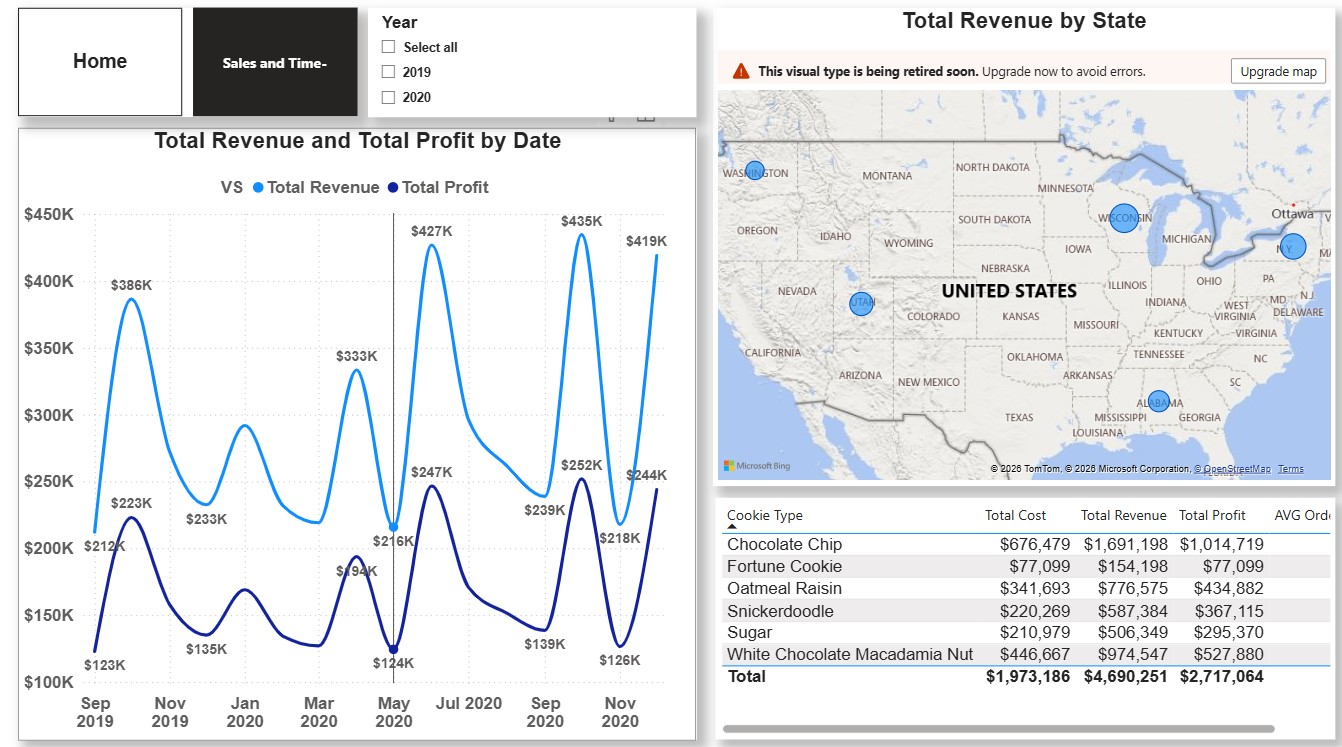

Layout of this report page (visuals, bound fields, positions):
{"tool":"powerbi","page":{"name":"Sales and Time-","canvas":[1280,720],"ordinal":1},"visuals":[{"type":"lineChart","fields":{"Category":["DimDate.Date"],"Y":["Meas.Total Revenue","Meas.Total Profit"]},"box":[18.8,127,644.9,581.4],"z":0},{"type":"map","fields":{"Category":["Customers.State"],"Size":["Meas.Total Revenue"]},"box":[679.5,13,591.5,454.5],"z":1000},{"type":"tableEx","fields":{"Values":["Cookie Type.Cookie Type","Meas.Total Cost","Meas.Total Revenue","Meas.Total Profit","Meas.AVG Orders Value"]},"box":[681,479,588.6,229.4],"z":2000},{"type":"pageNavigator","box":[18.8,13,323.2,103.9],"z":3000},{"type":"slicer","fields":{"Values":["DimDate.Year"]},"box":[352,13,311.6,103.9],"z":4000}]}

Visuals, with their boxes on the page's 1280x720 design canvas (x1, y1, x2, y2). These are canvas units, not pixel positions in the 1342x747 screenshot, which may show the page scaled, cropped or inside an application window:
lineChart - DimDate.Date x Meas.Total Revenue: {"x1": 19, "y1": 127, "x2": 664, "y2": 708}
map - Customers.State x Meas.Total Revenue: {"x1": 680, "y1": 13, "x2": 1271, "y2": 468}
tableEx - Cookie Type.Cookie Type x Meas.Total Cost: {"x1": 681, "y1": 479, "x2": 1270, "y2": 708}
pageNavigator: {"x1": 19, "y1": 13, "x2": 342, "y2": 117}
slicer - DimDate.Year: {"x1": 352, "y1": 13, "x2": 664, "y2": 117}
